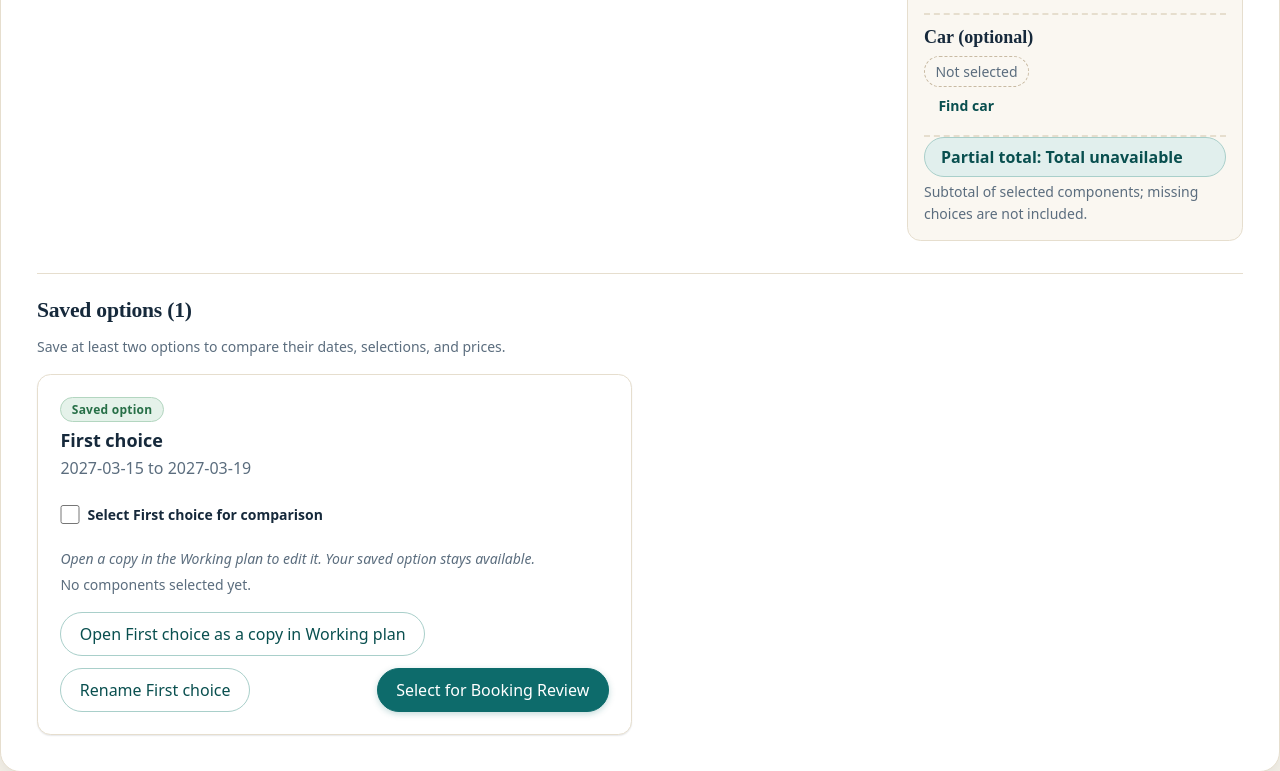
Test: Saved option lifecycle › canceling an option load makes no request and explicit replacement keeps its source
(page scrolled)
Click the button "Open First choice as a copy in Working plan" at x=243, y=634, box [60,612,425,656]
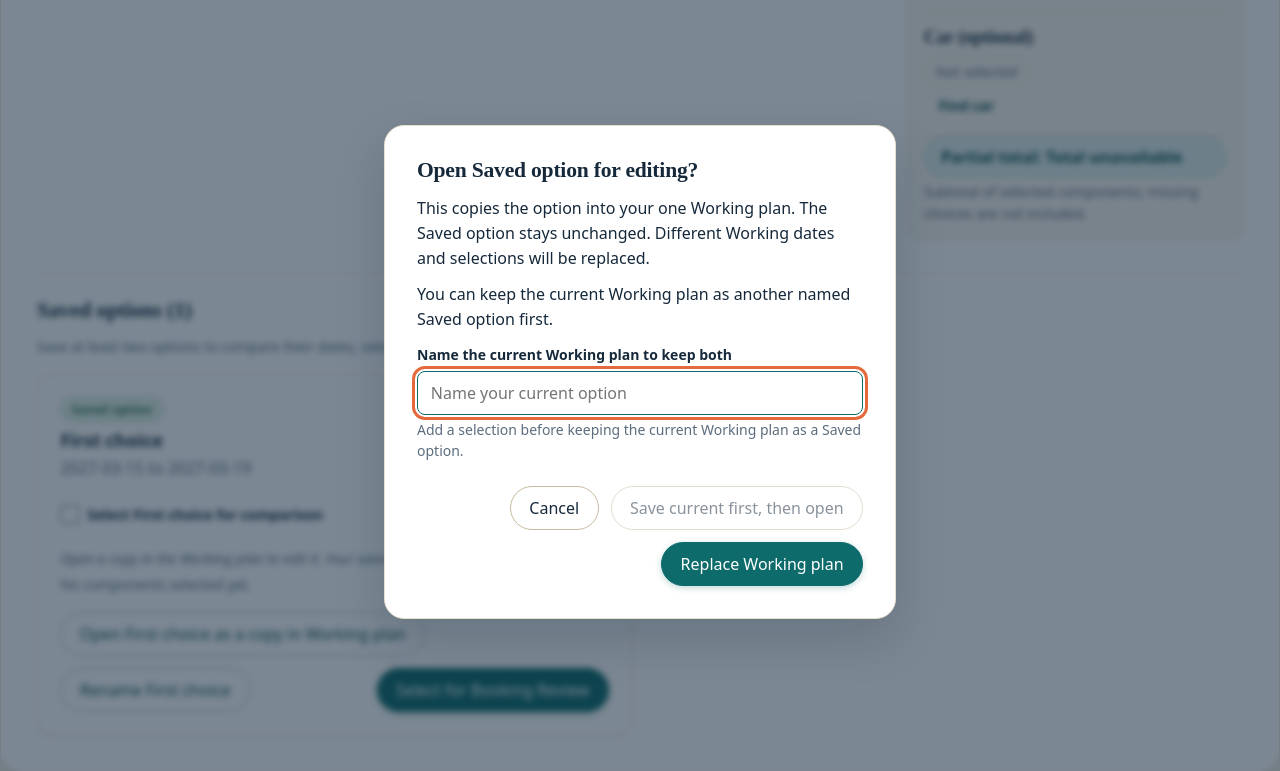
Click the button "Cancel" at x=554, y=508, box [510,486,598,530]
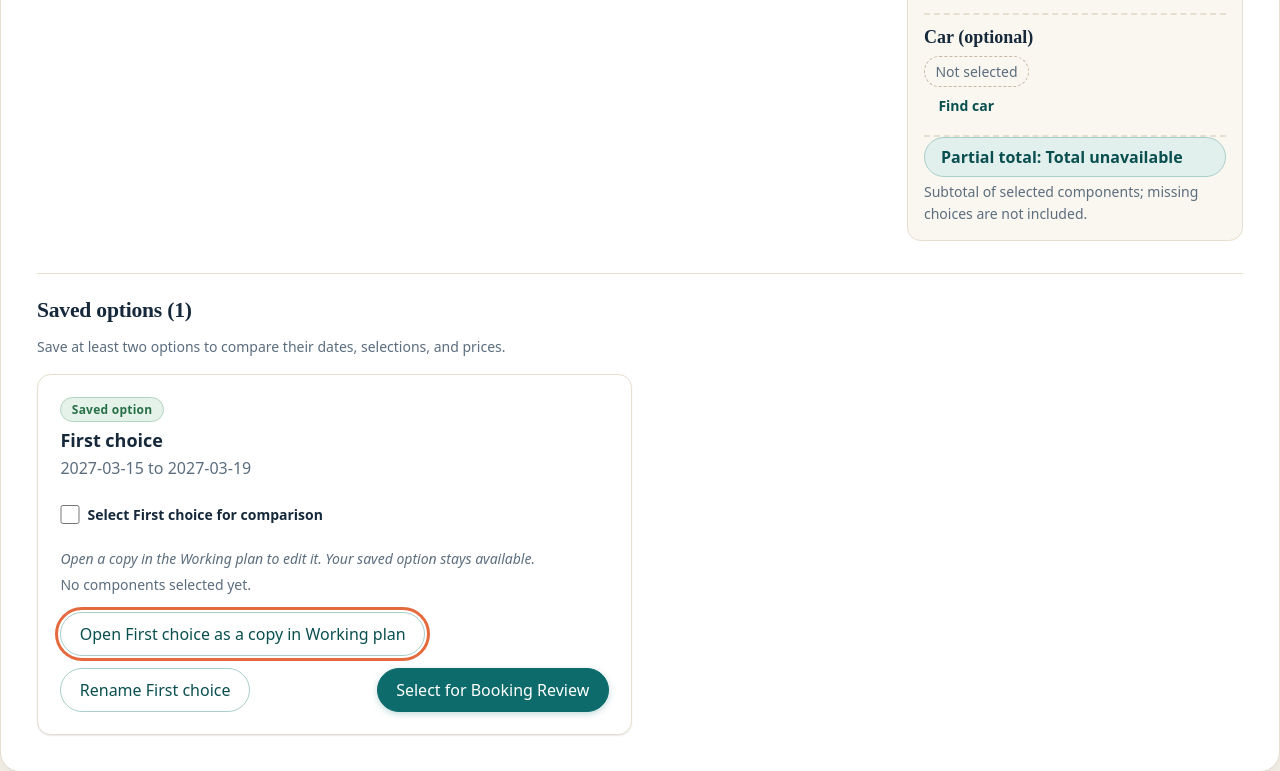
Click the button "Open First choice as a copy in Working plan" at x=243, y=634, box [60,612,425,656]
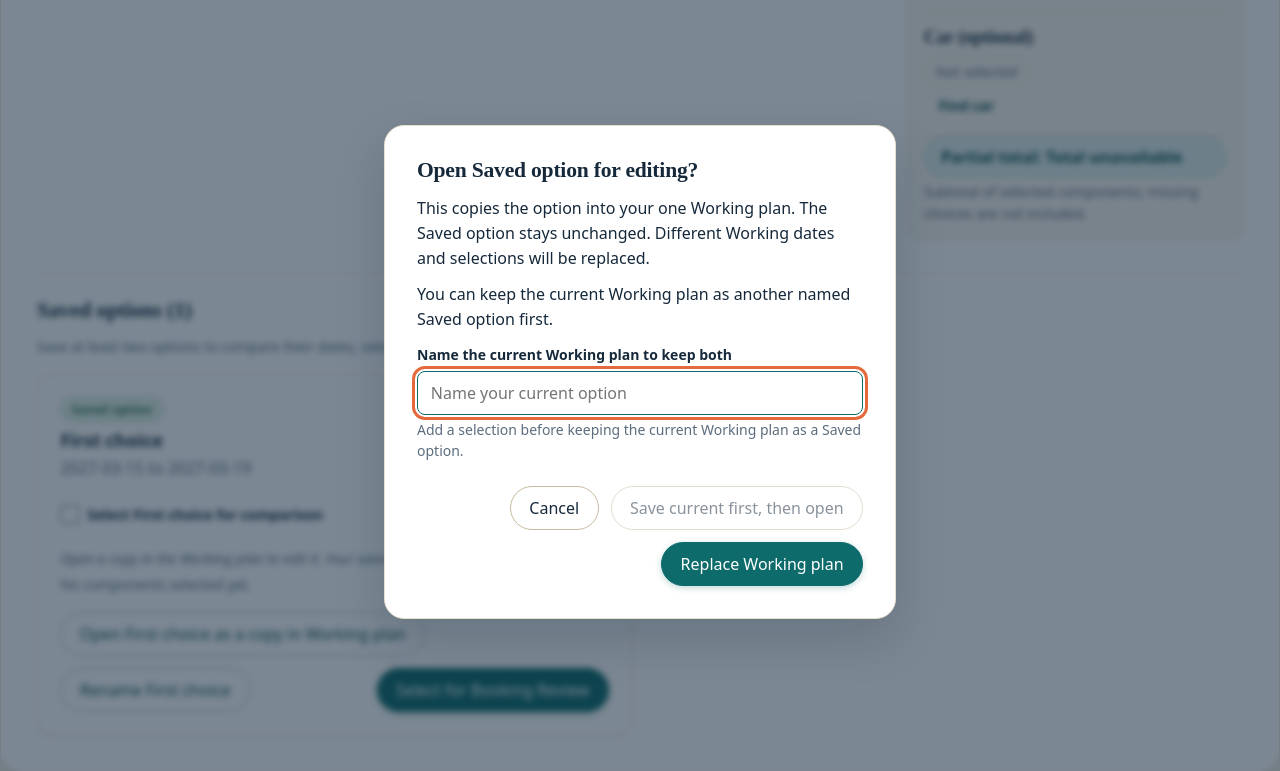
Click the button "Replace Working plan" at x=762, y=564, box [661,542,863,586]
(page scrolled)
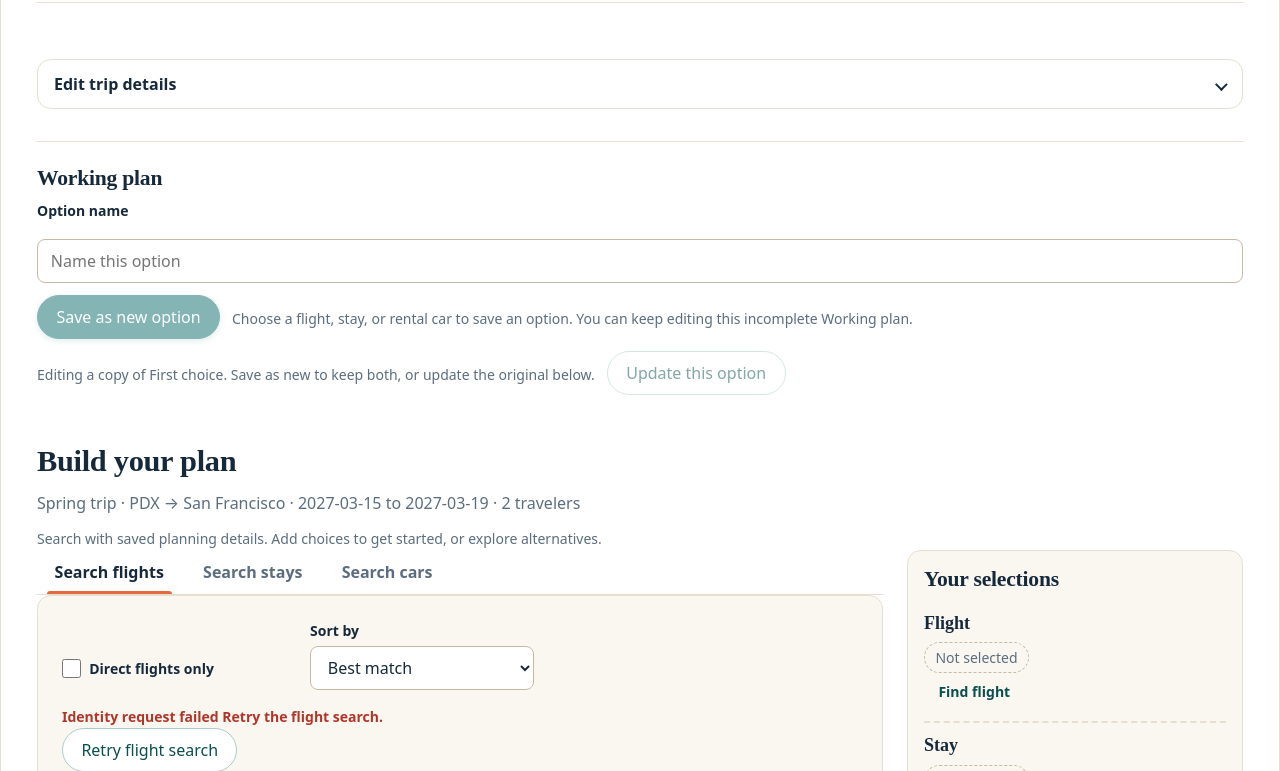
Expected: the button "Update this option" is shown, [607,351,786,395]
